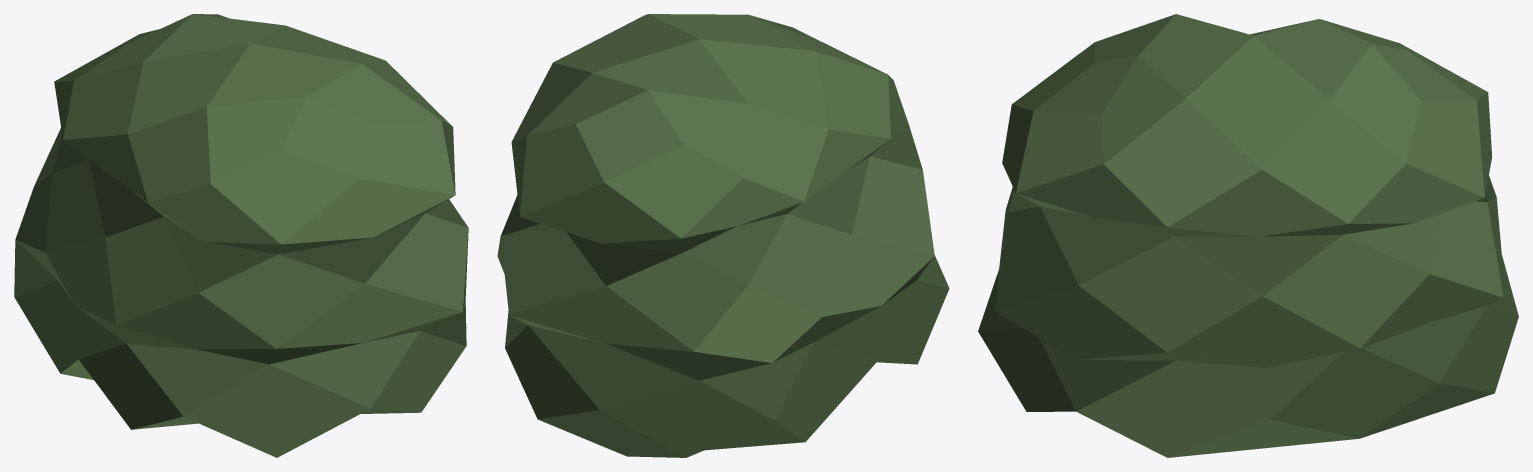
Rendered from Bush.fbx.
The picture shows the model from 3 angles, left to right: view 1: azimuth 30°, elevation 25°; view 2: azimuth 150°, elevation 25°; view 3: azimuth 270°, elevation 25°; orthographic projection. The views are drawn at different scales.
Visible parts, largest first — view 1: Bush_1; view 2: Bush_1; view 3: Bush_1.
Part boxes in pixels (x1,y1,x2,y2): Bush_1: (14,14,468,457); Bush_1: (497,14,949,457); Bush_1: (978,14,1518,457).
Bounding box in the file's own units: 133 × 124 × 164.
